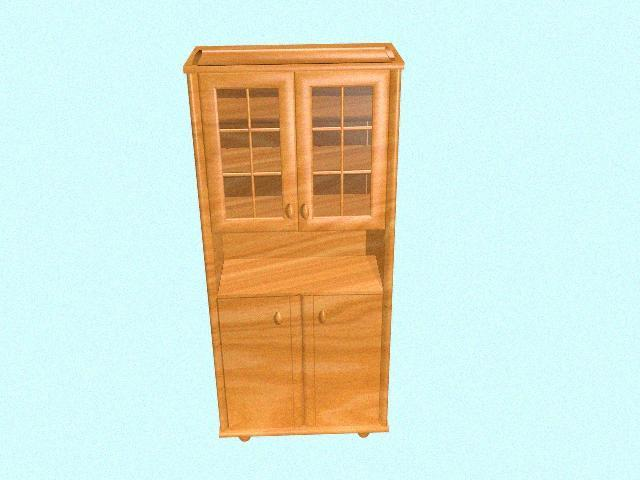cabinet_door: (296, 70, 388, 230), (205, 72, 296, 232), (223, 298, 303, 428), (303, 295, 381, 425)
handle: (269, 304, 286, 331), (314, 307, 331, 331), (299, 200, 312, 226), (284, 199, 296, 224)
